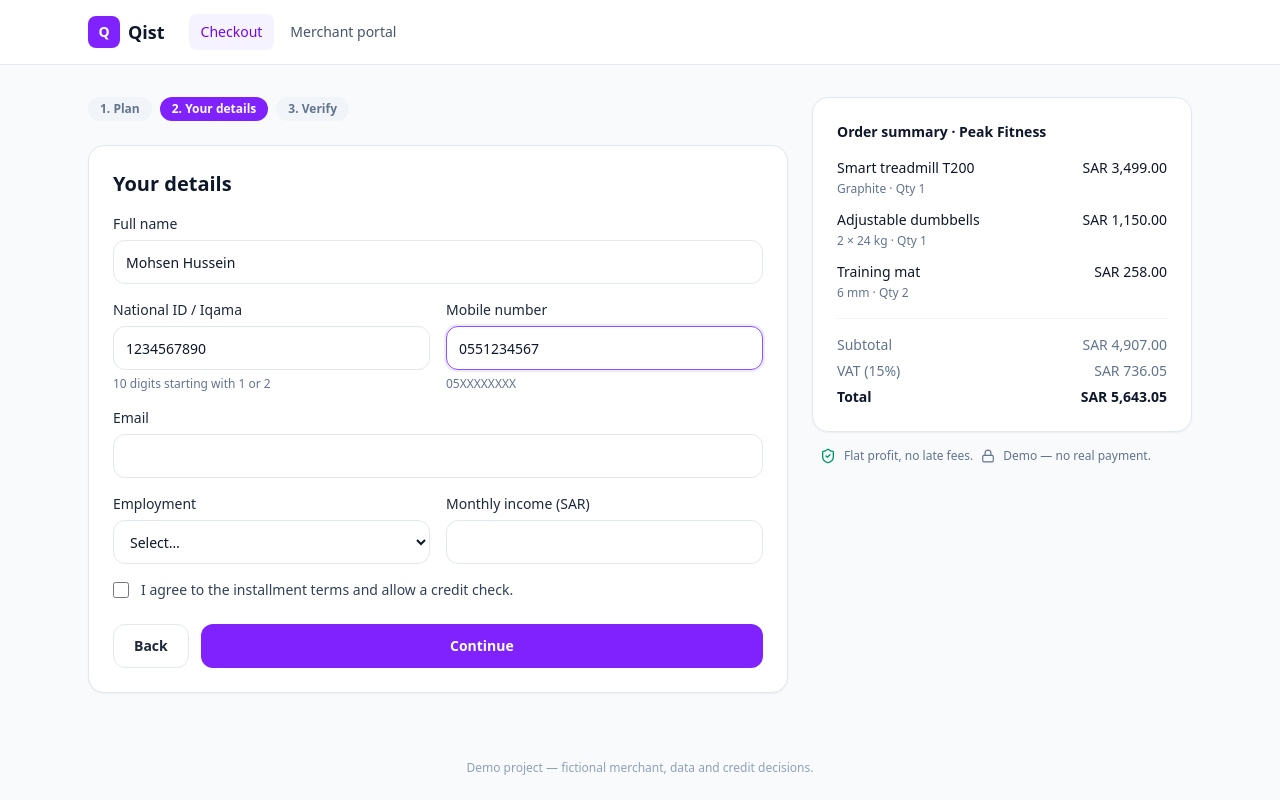
Test: <CheckoutPage /> › explains a decline when the plan isn't affordable
Earlier steps of the test are not shown.
Type "mohsen@example.com" into the field labelled "Email" at (438, 456), box 113,434 -> 763,478
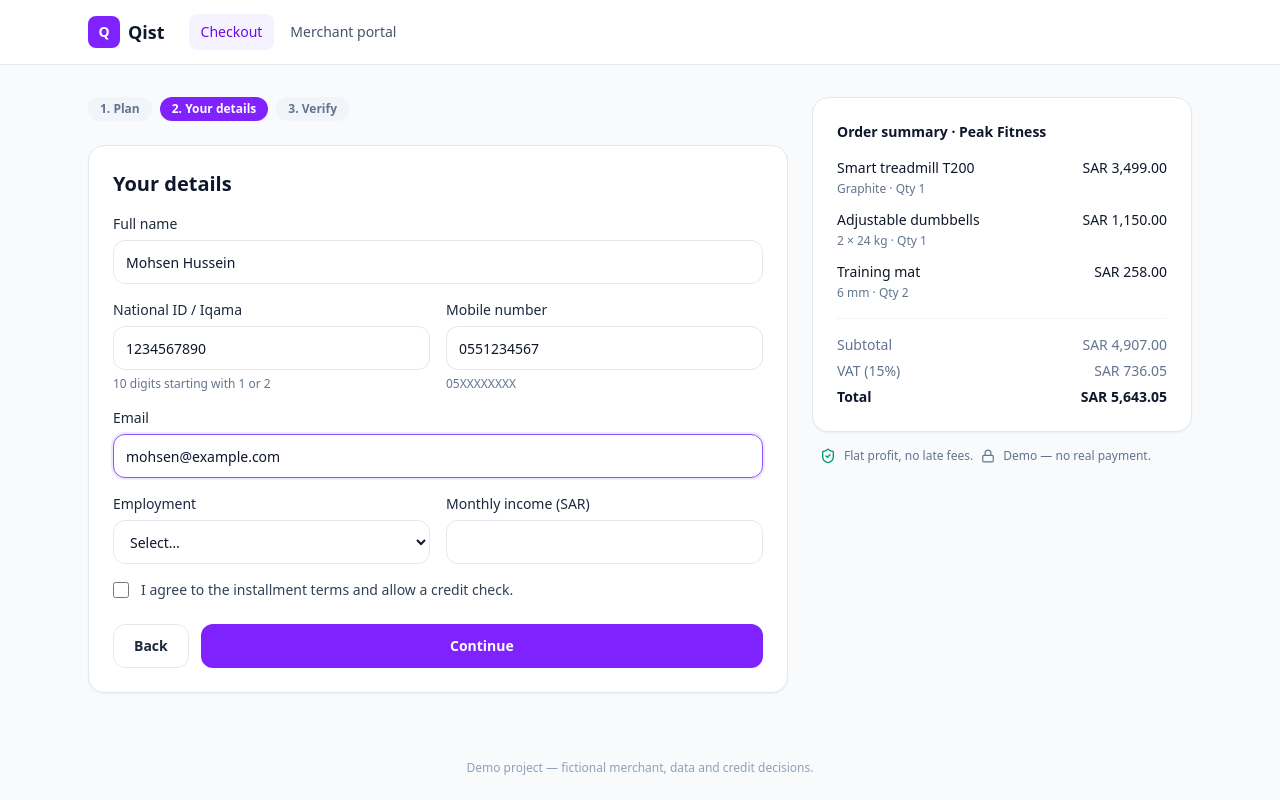
Select "private" in the dropdown labelled "Employment" at (272, 542), box 113,520 -> 430,564
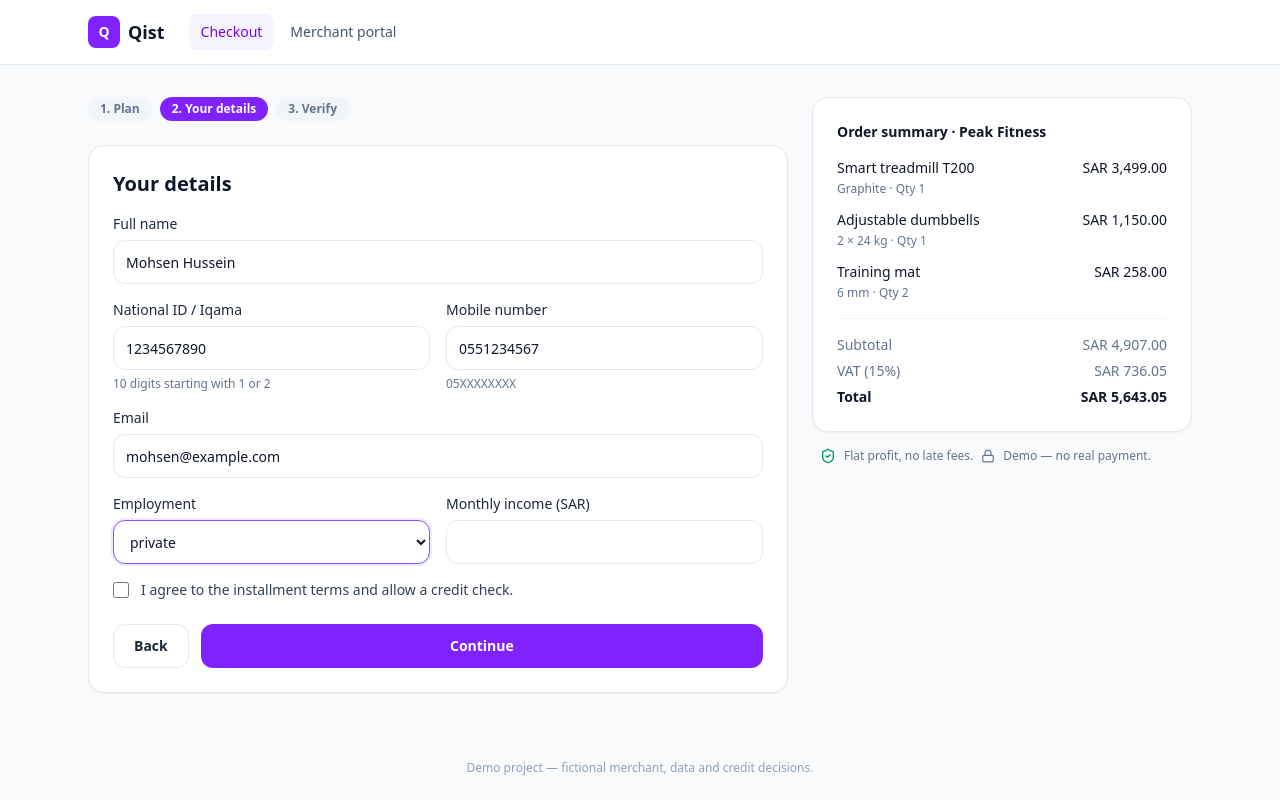
Type "2500" into the number field labelled "Monthly income (SAR)" at (604, 542), box 446,520 -> 763,564
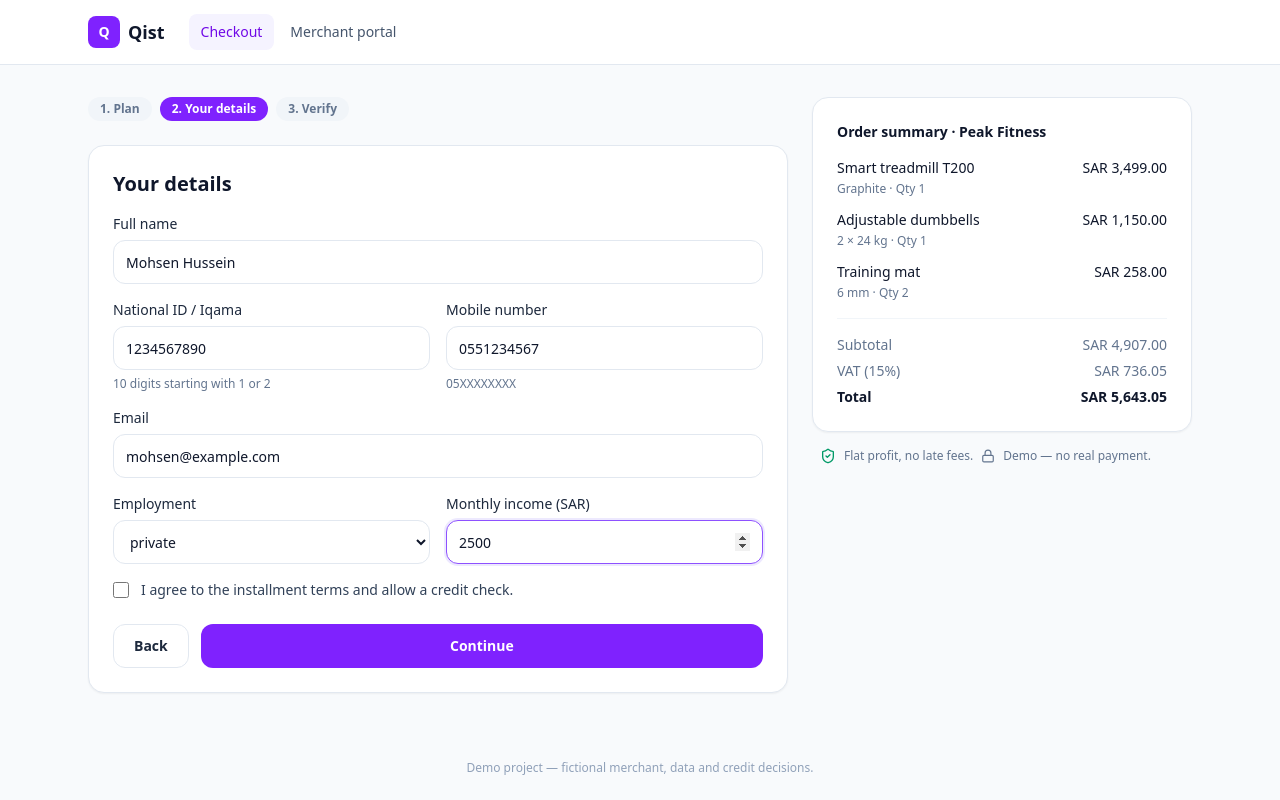
Click the checkbox labelled "I agree to the installment terms and allow a credit check." at (121, 590), box 113,582 -> 129,598
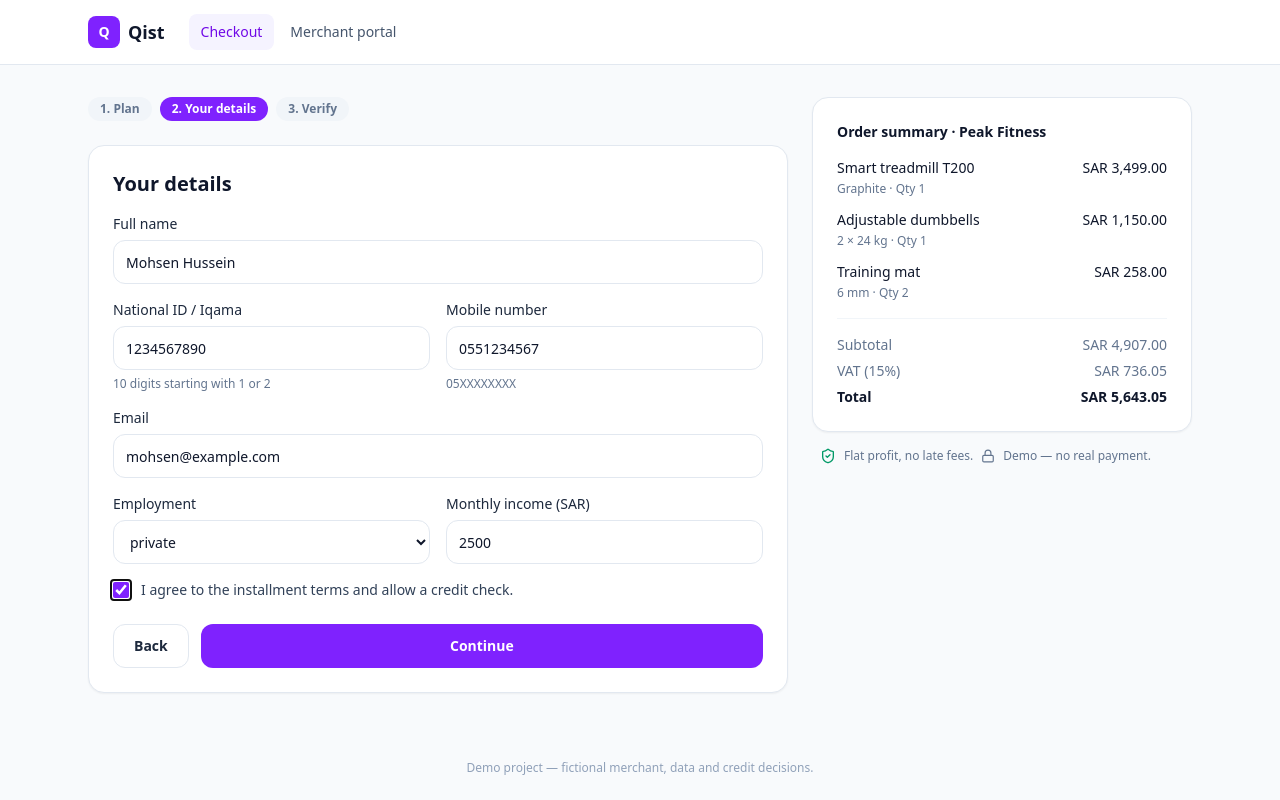
Click the button "Continue" at (482, 646), box 201,624 -> 763,668
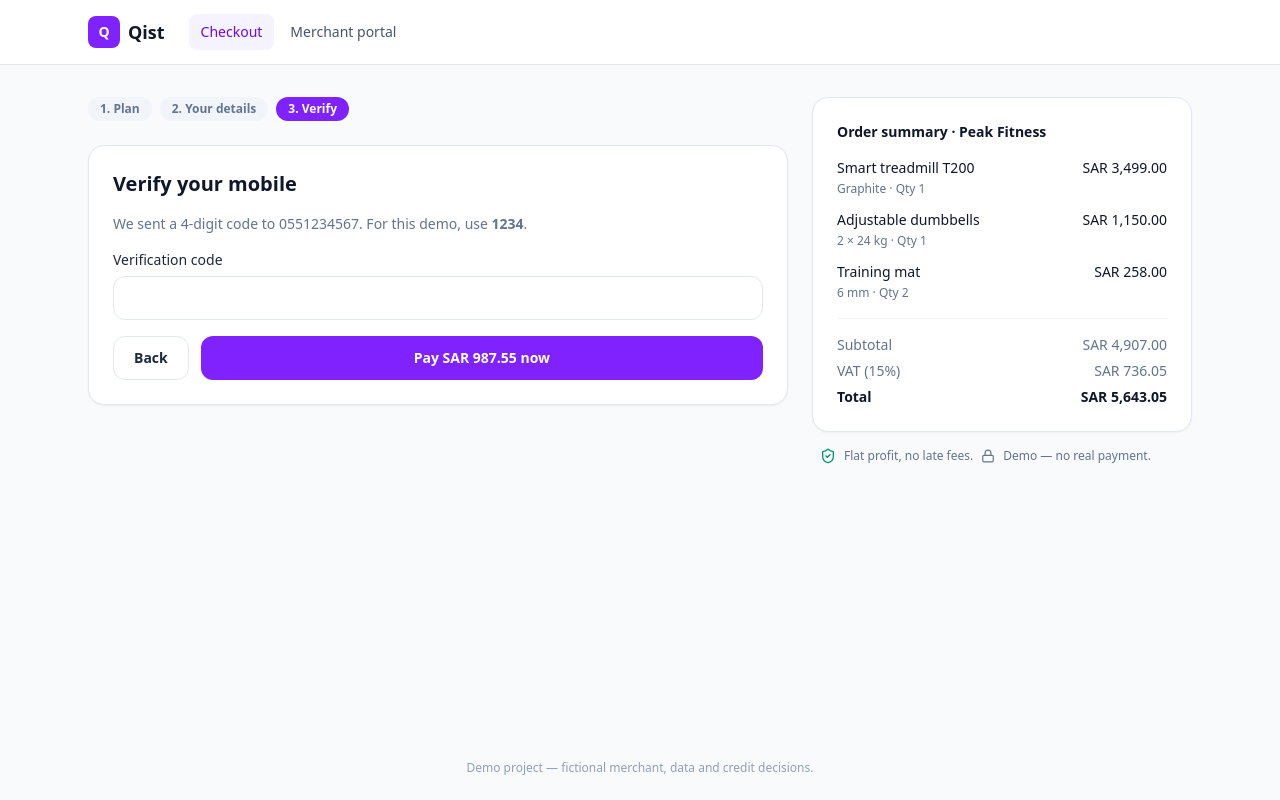
Type "1234" into the field labelled "Verification code" at (438, 298), box 113,276 -> 763,320
Click the button "Pay SAR 987.55 now" at (482, 358), box 201,336 -> 763,380
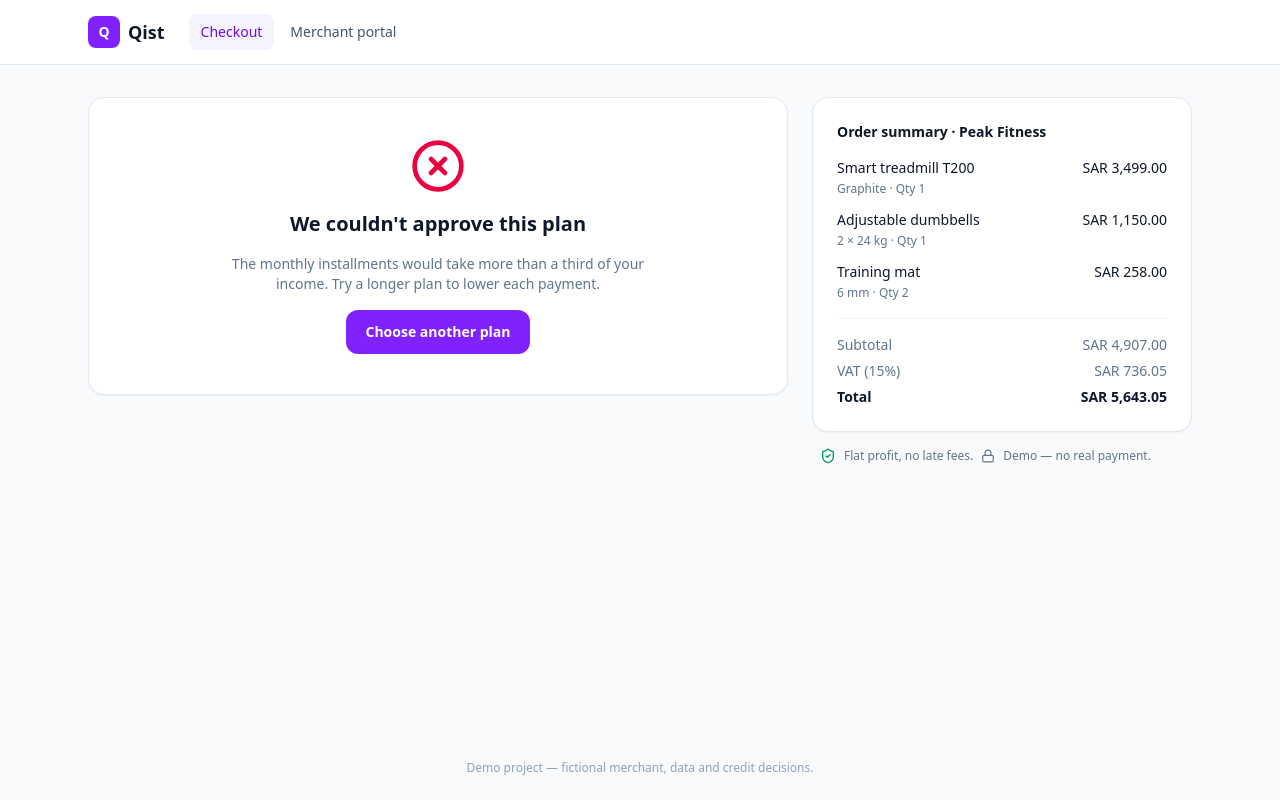
Expected: the heading "We couldn't approve this plan" is shown, 290,210 -> 586,238
